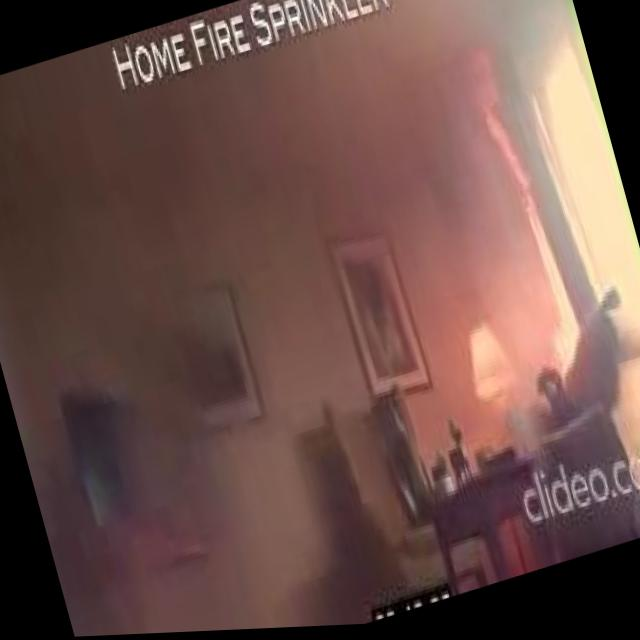fire: (452, 53, 592, 386)
